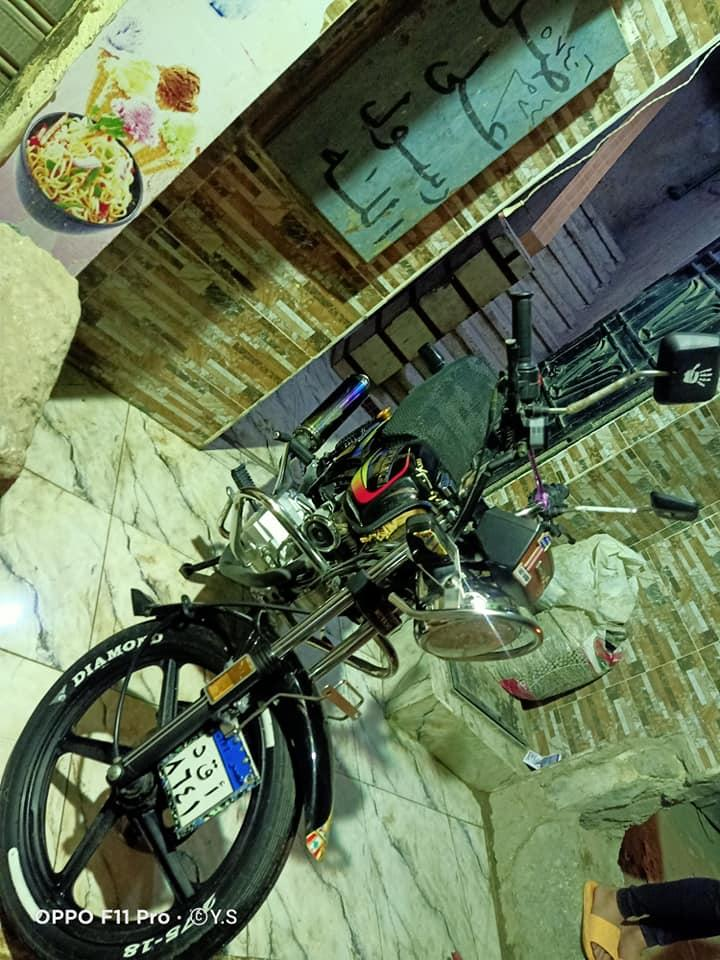License Plate: (156, 718, 260, 830)
